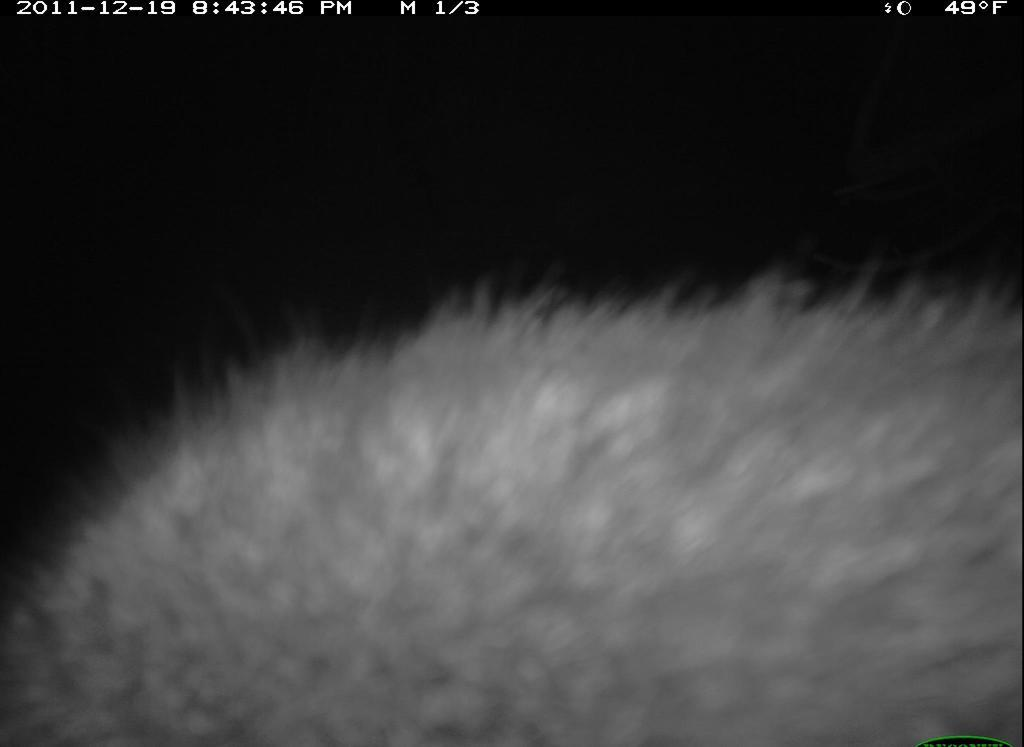raccoon: (41, 245, 1016, 731)
